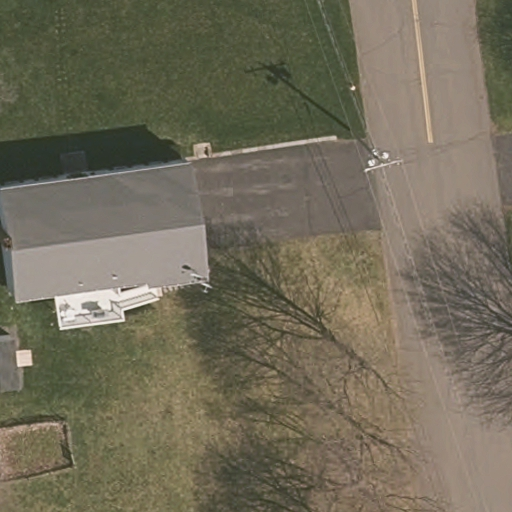DT: (362, 146, 408, 174)
